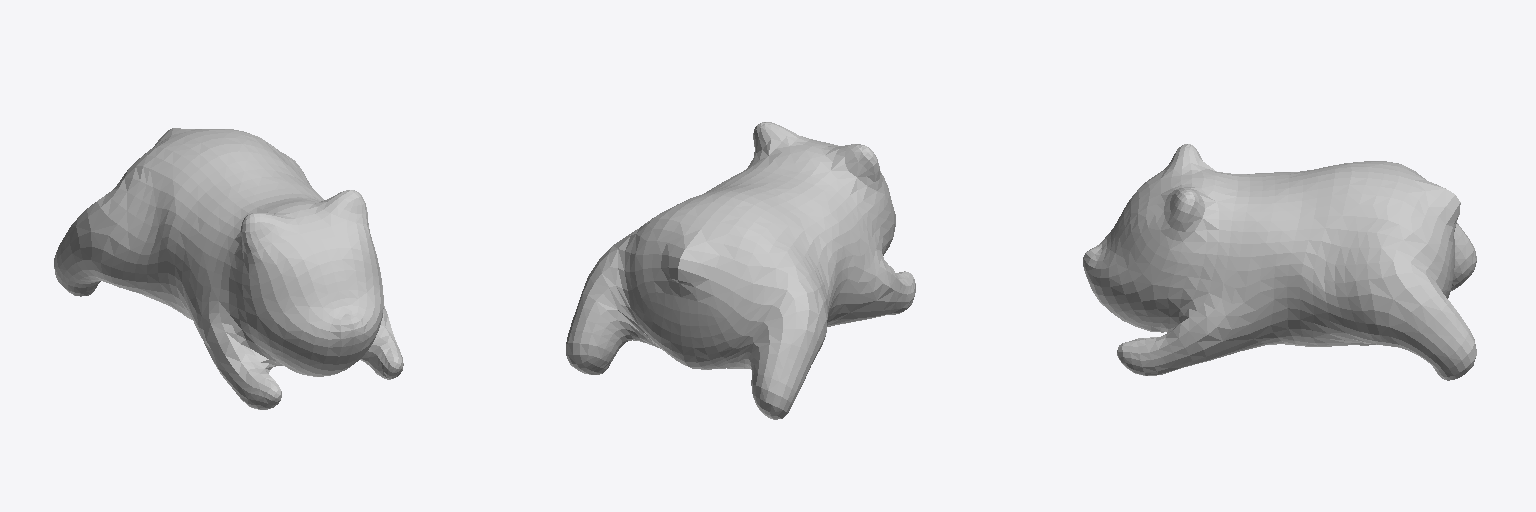
File: hamsterpose3.obj
3 views of the same model, side by side, from view 1: azimuth 30°, elevation 25°; view 2: azimuth 150°, elevation 25°; view 3: azimuth 270°, elevation 25° (orthographic).
Parts seen in each view (by area): view 1: hamsterPoseBase_hamster; view 2: hamsterPoseBase_hamster; view 3: hamsterPoseBase_hamster.
Part boxes in pixels (x1,y1,x2,y2): hamsterPoseBase_hamster: (54, 128, 403, 409); hamsterPoseBase_hamster: (566, 122, 915, 419); hamsterPoseBase_hamster: (1083, 144, 1476, 380).
Bounding box in the file's own units: 3.36 × 2.48 × 5.06.